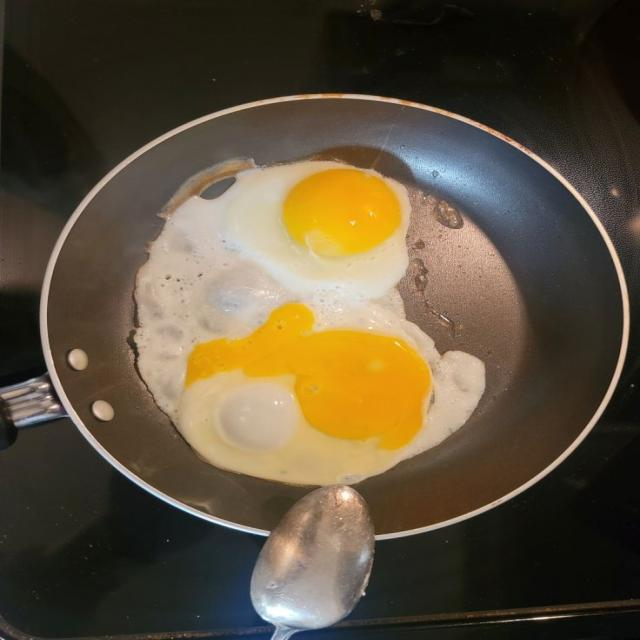fryed egg: (135, 162, 484, 484), (178, 304, 484, 484), (224, 162, 410, 303)
